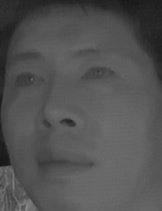eye: (76, 62, 117, 86), (11, 69, 46, 93)
mouth: (30, 146, 96, 181)
